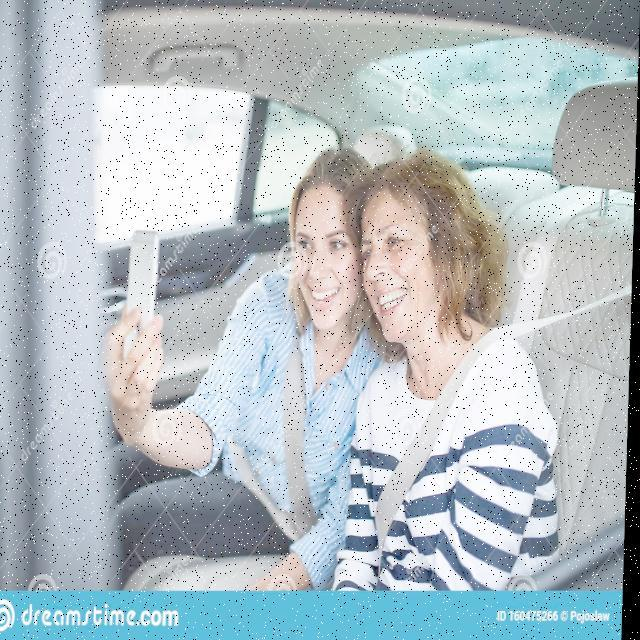seatbelt: (368, 308, 574, 588), (202, 265, 386, 551)
